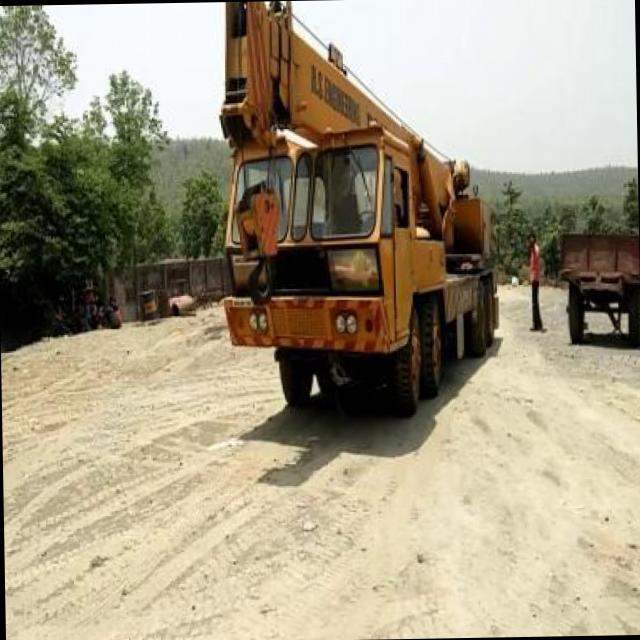Mobile Crane: (215, 0, 497, 414)
